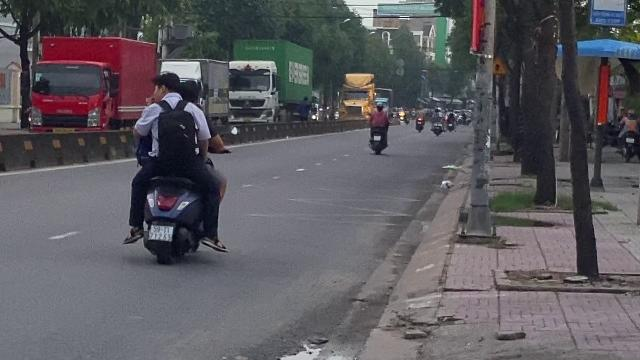licenseplate: (148, 224, 174, 242)
motorcyclist: (122, 66, 230, 266)
nohelmet: (154, 70, 182, 100), (178, 78, 204, 103)
